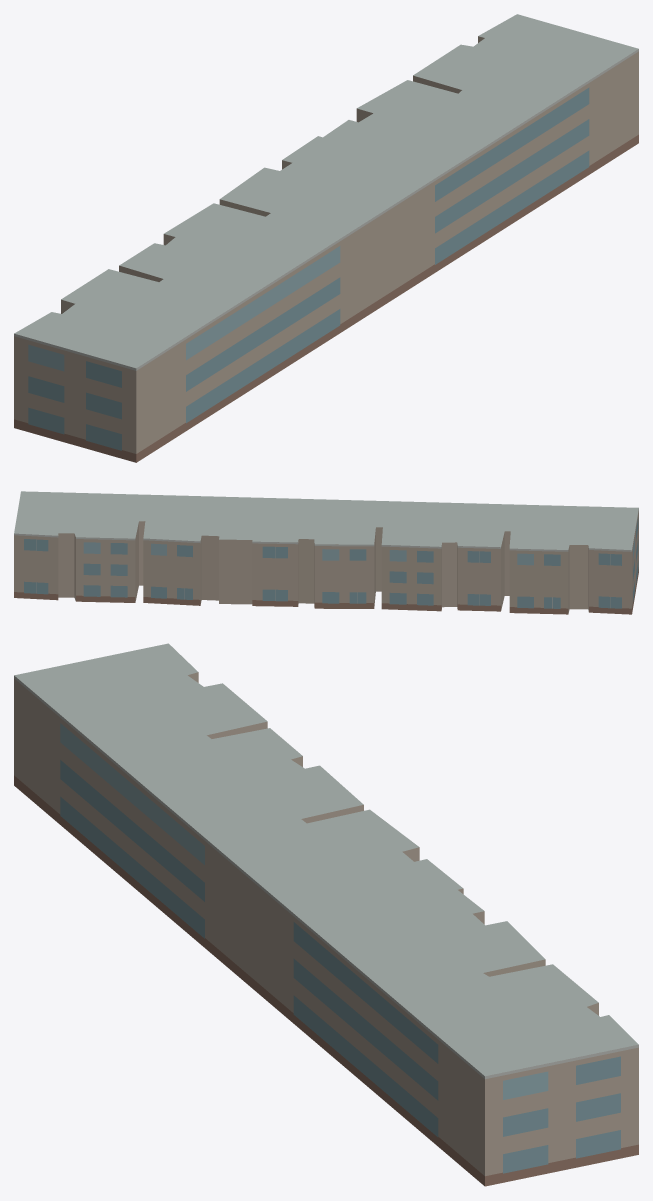
The model's file is survey-upis-32615039.glb.
The picture shows the model from 3 angles, top to bottom: view 1: azimuth 30°, elevation 25°; view 2: azimuth 150°, elevation 25°; view 3: azimuth 270°, elevation 25°; orthographic projection. The views are drawn at different scales.
Visible parts, largest first — view 1: survey-upis-32615039.tmp; view 2: survey-upis-32615039.tmp; view 3: survey-upis-32615039.tmp.
Part boxes in pixels (x1,y1,x2,y2): survey-upis-32615039.tmp: (14,14,638,462); survey-upis-32615039.tmp: (14,491,638,614); survey-upis-32615039.tmp: (14,643,638,1186).
Bounding box in the file's own units: 77.1 × 9.15 × 47.04.
